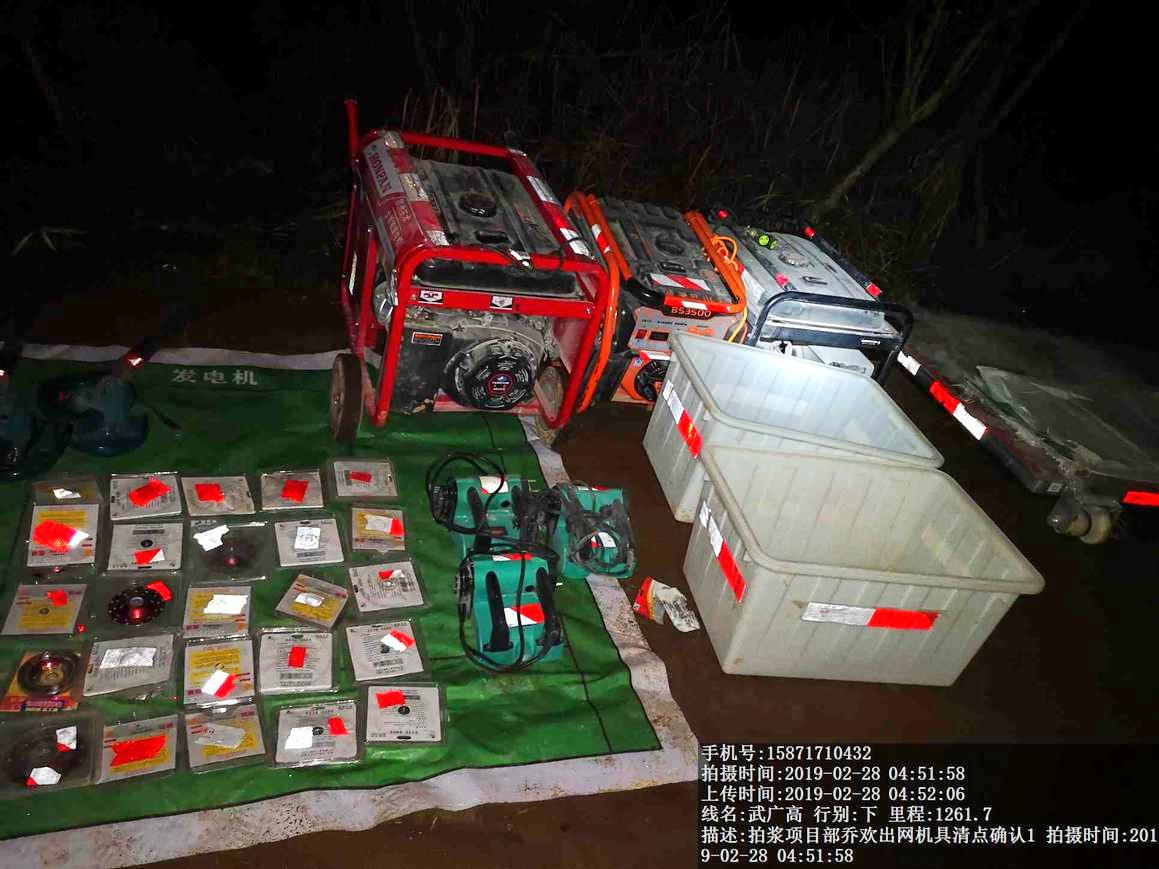DJ: (337, 129, 594, 446), (575, 175, 745, 386), (716, 192, 906, 335)
T: (685, 442, 1064, 696), (625, 333, 950, 465)
